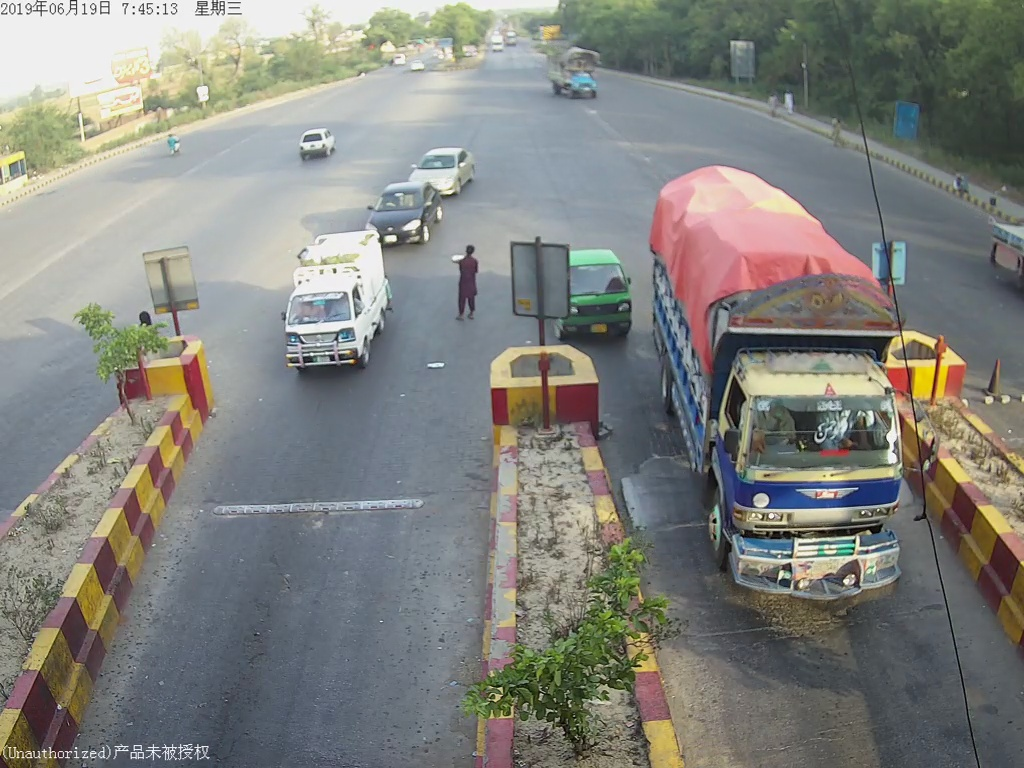Cat-1: (282, 234, 390, 366), (565, 253, 633, 354)
Cat-4: (658, 173, 912, 603)
